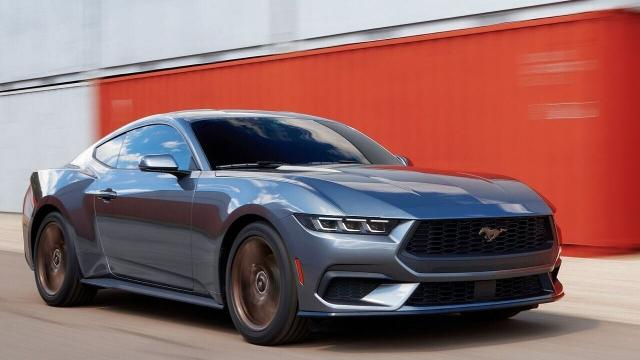ford-mustang: (21, 110, 566, 346)
